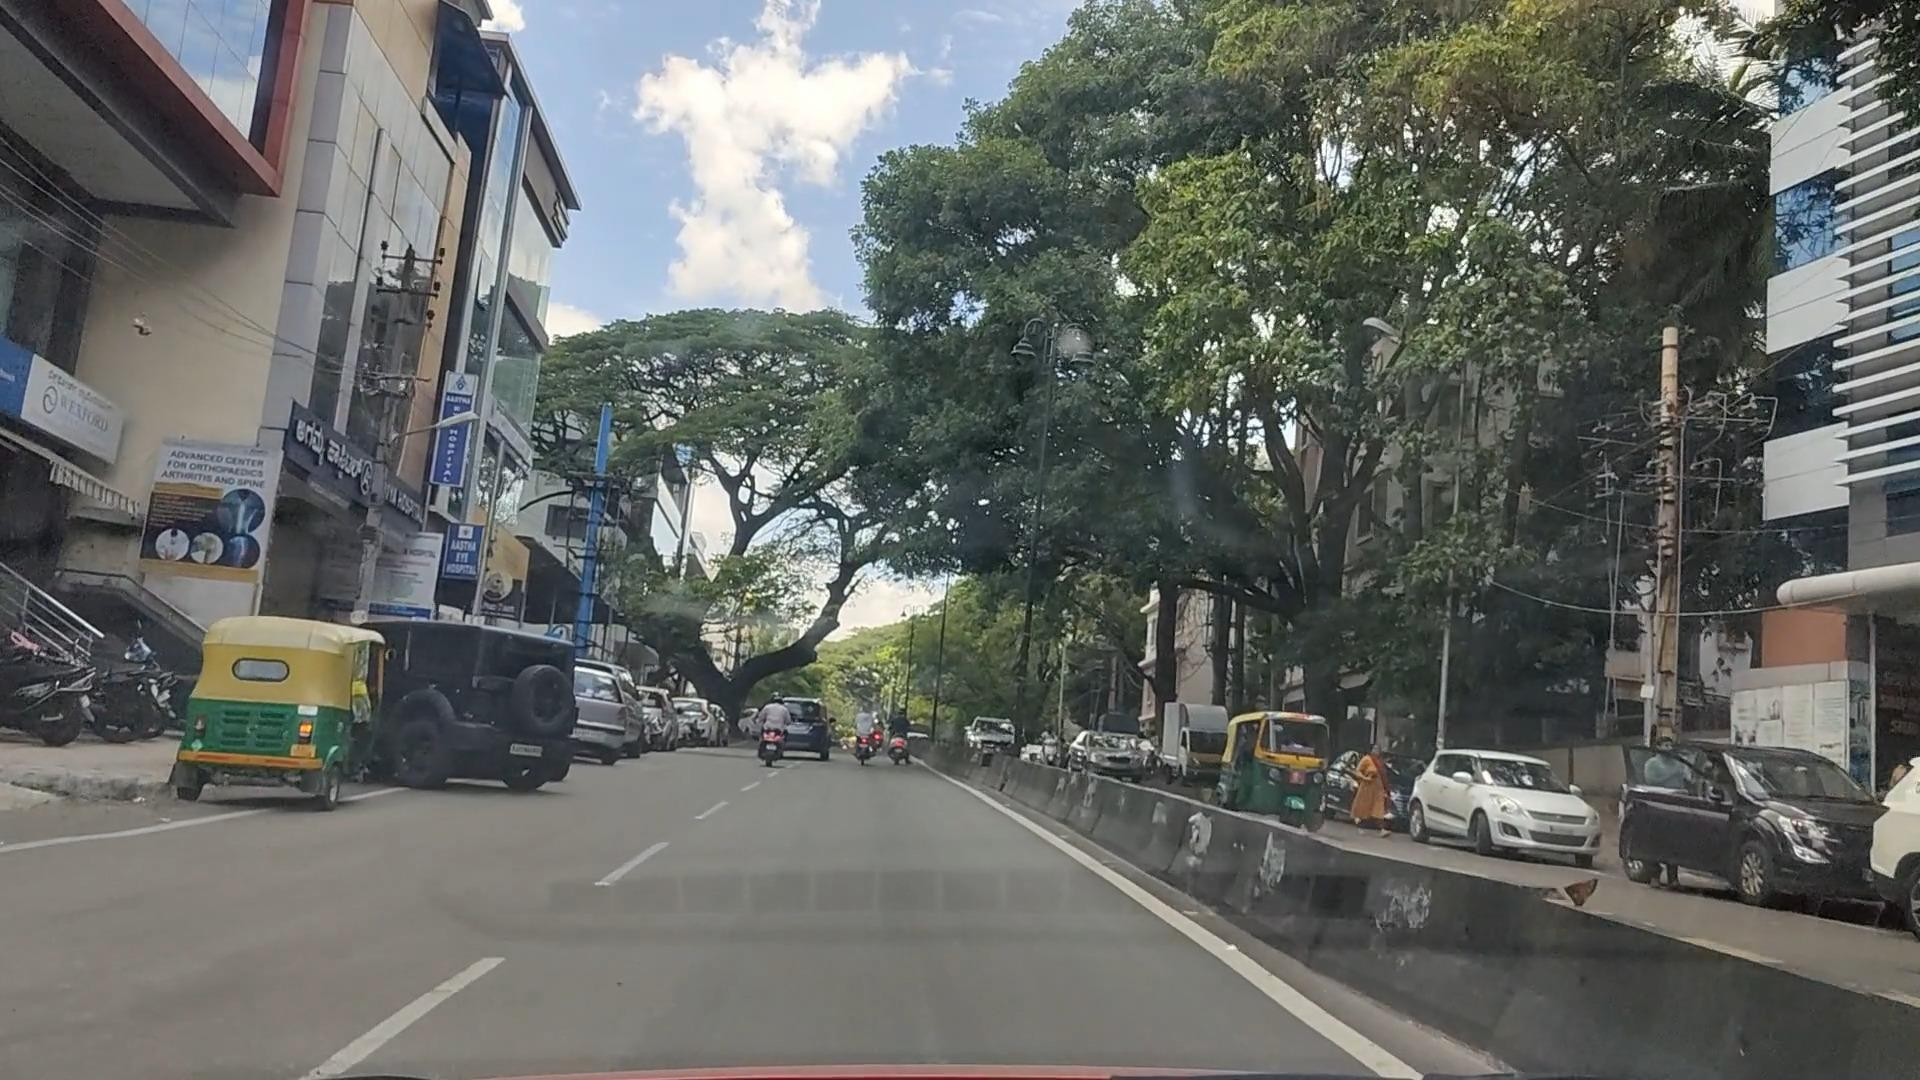LMV: (156, 628, 376, 823), (393, 618, 587, 796)
